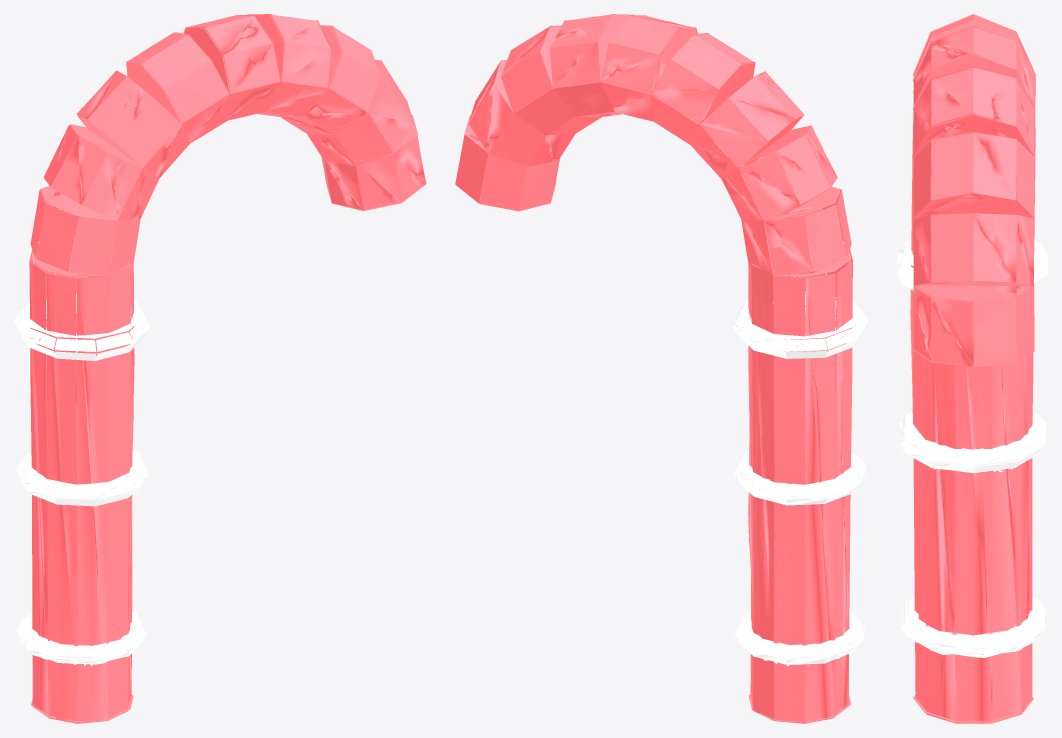
Rendered from xmas_candy_cane.glb.
3 renders of one model, left to right at view 1: azimuth 30°, elevation 25°; view 2: azimuth 150°, elevation 25°; view 3: azimuth 270°, elevation 25°, orthographic. The views are drawn at different scales.
Visible parts, largest first — view 1: CandyCane; view 2: CandyCane; view 3: CandyCane.
Part boxes in pixels (x1,y1,x2,y2): CandyCane: [14, 14, 426, 723]; CandyCane: [455, 14, 868, 723]; CandyCane: [897, 14, 1047, 723].
Bounding box in the file's own units: 1.35 × 2.1 × 0.386.
